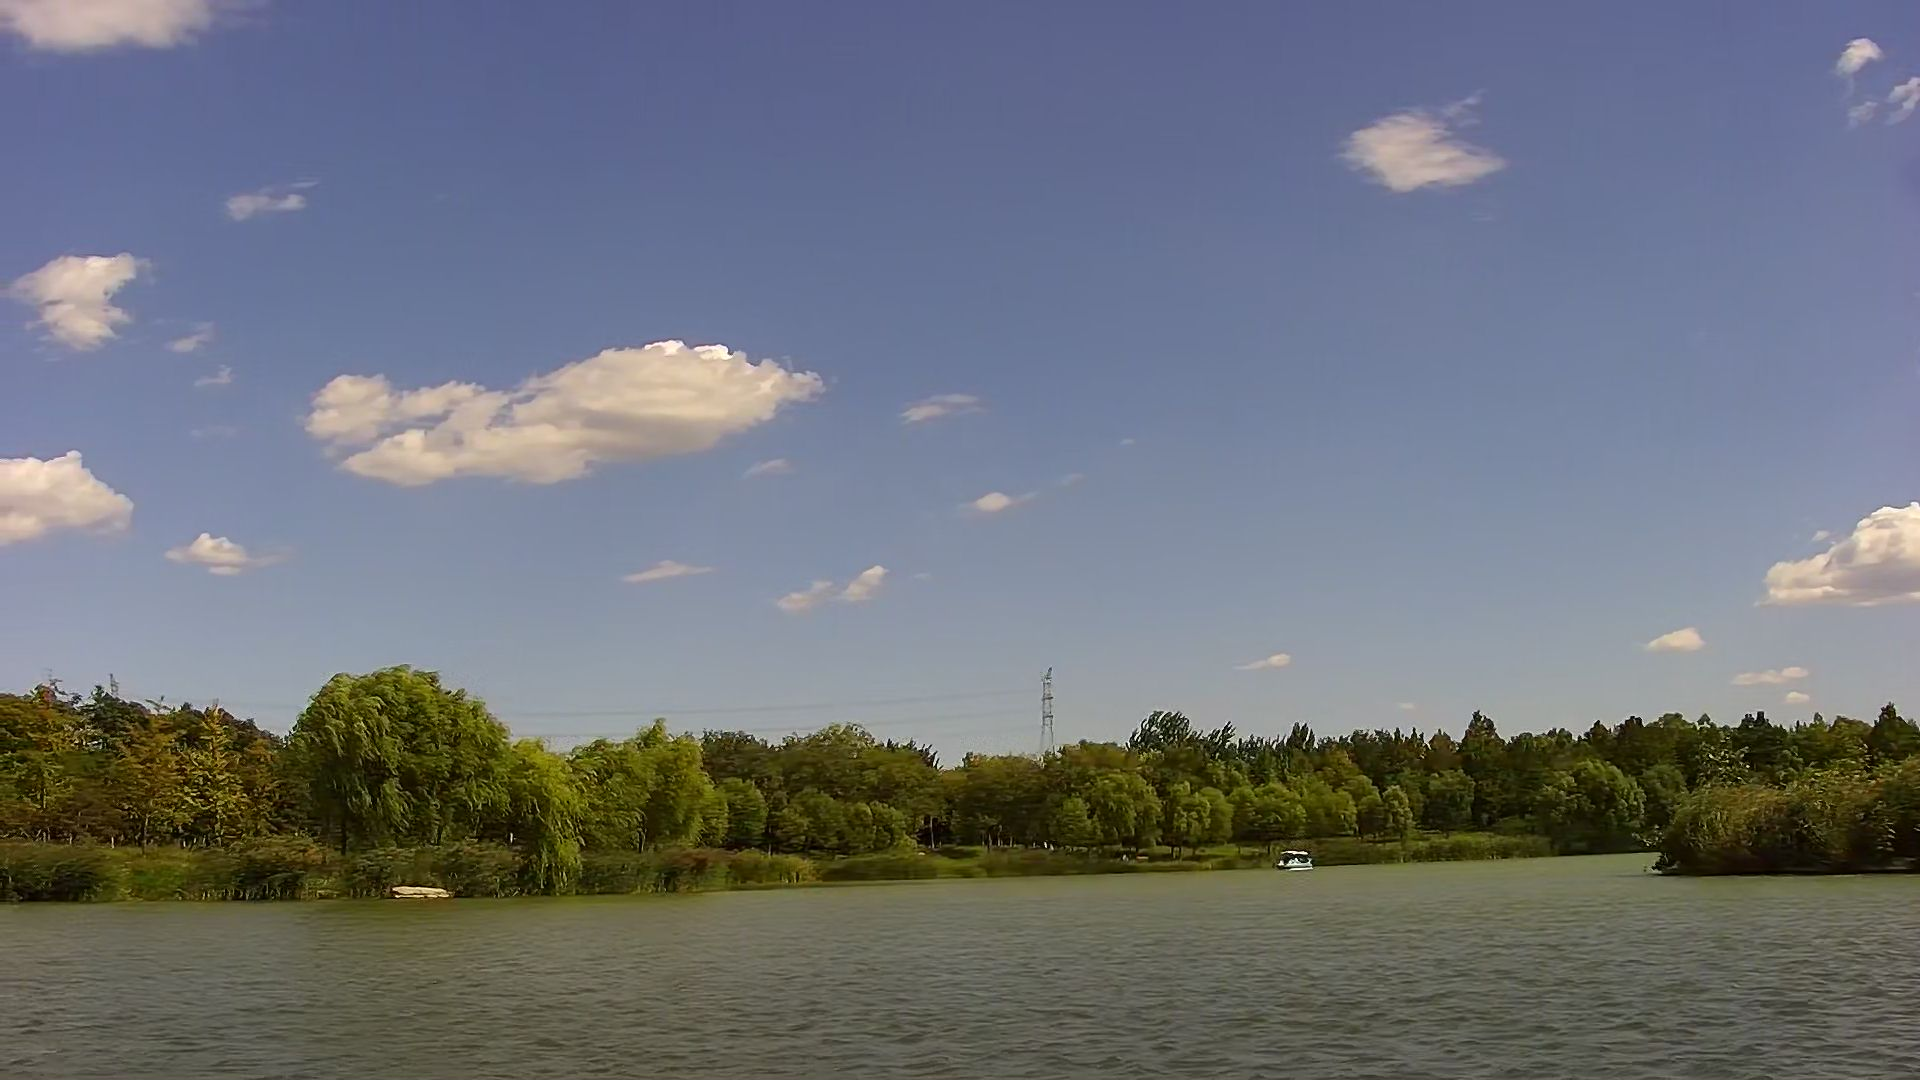boat: (1273, 843, 1319, 874)
